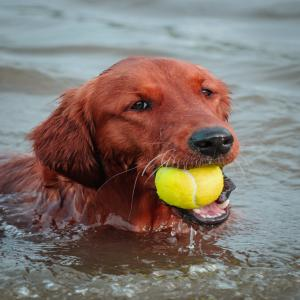TennisBall: (156, 165, 225, 211)
